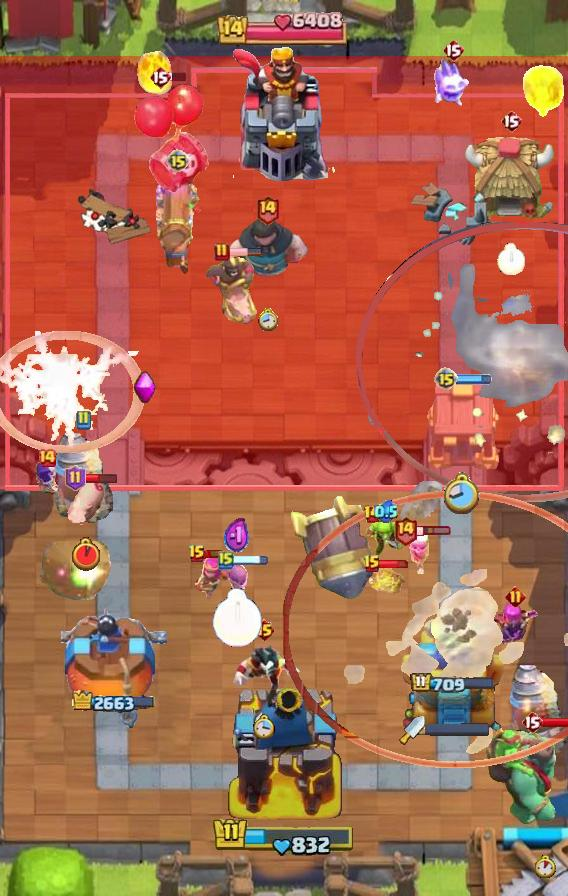bar: (402, 615, 507, 731)
barbarian-evolution: (0, 331, 146, 453)
battle-healer: (155, 173, 201, 277)
bomb: (422, 378, 502, 472)
cannon: (191, 558, 231, 602)
clock: (212, 816, 356, 858), (217, 11, 351, 45)
electro-spirit: (224, 516, 250, 555), (374, 500, 398, 524)
elixir: (212, 588, 264, 648), (443, 472, 480, 516), (72, 537, 100, 571), (497, 243, 525, 275), (253, 714, 275, 739), (257, 307, 279, 331), (536, 854, 557, 878)
emote: (416, 525, 453, 537), (232, 554, 269, 566), (82, 472, 117, 484), (456, 374, 492, 385), (227, 247, 263, 257), (540, 716, 567, 728), (379, 559, 411, 569), (168, 70, 188, 81), (203, 549, 223, 560)
evolution-symbol: (490, 595, 540, 651)
fisherman: (400, 481, 442, 527)
freeze: (204, 255, 260, 325)
giant: (65, 479, 107, 525)
goblin: (404, 532, 432, 574), (225, 561, 251, 599), (34, 458, 60, 494)
ice-spirit-evolution: (367, 564, 407, 600)
king-tower: (223, 680, 345, 826), (230, 45, 338, 181)
king-tower-bar: (425, 723, 489, 736)
lava-hound: (484, 724, 568, 830)
lumberjack: (227, 639, 301, 697)
magic-archer: (53, 432, 113, 524), (508, 664, 568, 756)
mirror: (433, 58, 473, 108)
prince: (464, 135, 558, 225)
queen-tower: (61, 603, 167, 731)
royal-ghost: (284, 490, 568, 770), (356, 222, 568, 502)
royal-hog: (224, 215, 310, 293)
royal-recruit-evolution: (133, 82, 213, 196)
selected: (71, 689, 156, 714), (410, 672, 496, 696)
skeleton-king-skill: (133, 371, 157, 405)
text: (394, 515, 419, 546), (256, 195, 280, 225), (166, 149, 190, 173), (434, 367, 458, 391), (253, 618, 276, 642), (66, 465, 87, 491), (442, 38, 464, 62), (149, 65, 171, 89), (500, 109, 522, 133), (521, 710, 543, 734), (506, 586, 527, 607), (37, 448, 57, 468), (363, 504, 382, 524), (188, 544, 206, 564), (363, 554, 381, 574), (214, 242, 230, 262), (75, 410, 91, 430), (218, 550, 234, 570)
valkyrie: (520, 62, 568, 124), (131, 39, 177, 97)
x-bow: (290, 494, 374, 602), (36, 541, 122, 603)
zap: (365, 519, 407, 559)
